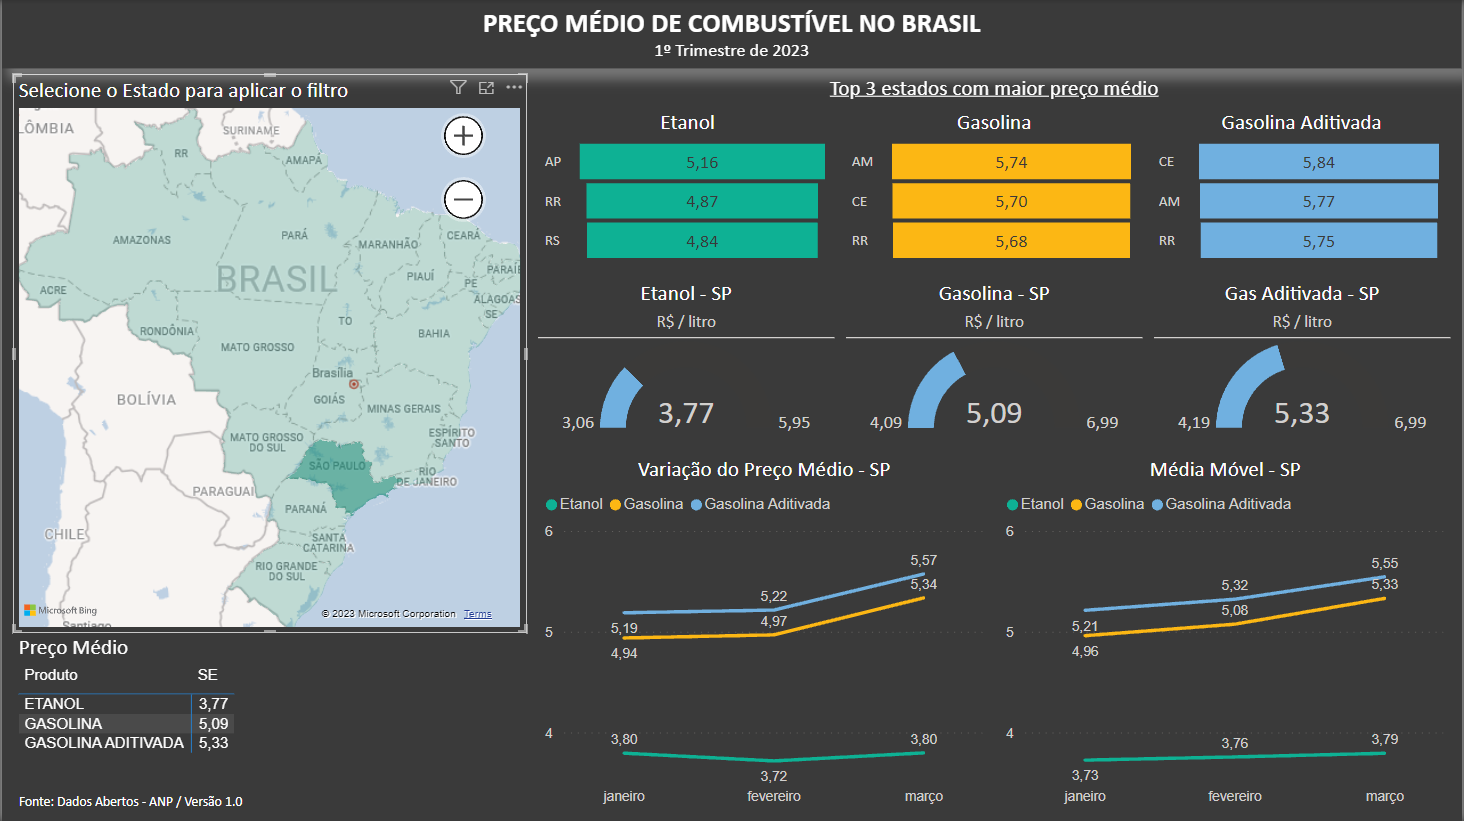

What the dashboard file says about the page in this screenshot:
{"tool":"powerbi","page":{"name":"Preço Médio","canvas":[1280,720],"ordinal":0},"visuals":[{"type":"lineChart","fields":{"Category":["preco_tratado.Data_Coleta.Variation.Hierarquia de datas.Mês","preco_tratado.Data_Coleta.Variation.Hierarquia de datas.Dia"],"Y":["Medidas.MediaNacEtanol","Medidas.MediaNacGasComum","Medidas.MediaNacGasAdit"]},"box":[470.9,395,395,320],"z":0},{"type":"lineChart","fields":{"Y":["Medidas.Média móvel de MediaNacEtanol","Medidas.Média móvel de MediaNacGasComum","Medidas.Média móvel de MediaNacGasAdit"],"Category":["preco_tratado.Data_Coleta.Variation.Hierarquia de datas.Mês","preco_tratado.Data_Coleta.Variation.Hierarquia de datas.Dia"]},"box":[874.9,395,395.1,320],"z":1000},{"type":"filledMap","title":"Selecione o Estado para aplicar o filtro","fields":{"Category":["preco_tratado.Estado"]},"box":[10,65,450,490],"z":2000},{"type":"pivotTable","fields":{"Rows":["preco_tratado.Produto"],"Columns":["preco_tratado.Regiao"],"Values":["Medidas.MediaValorVenda"]},"box":[10,554.7,450,123.7],"z":3000},{"type":"funnel","title":"Gasolina ","fields":{"Category":["TOPMediaGas.Estado"],"Y":["Avg(TOPMediaGas.GAS)"]},"box":[740.2,95,260,140.1],"z":4000},{"type":"textbox","box":[0,0,1280,60],"z":5000},{"type":"funnel","title":"Gasolina Aditivada","fields":{"Category":["TOPMediaGasAdit.Estado"],"Y":["Avg(TOPMediaGasAdit.GAS_ADIT)"]},"box":[1009.6,95,260.7,140.1],"z":6000},{"type":"funnel","title":"Etanol","fields":{"Category":["TOPMediaEtanol.Estado"],"Y":["Avg(TOPMediaEtanol.ETANOL)"]},"box":[470.8,95,260.7,140.1],"z":7000},{"type":"textbox","title":"Top 3 estados com maior preço médio","box":[470.2,65,800.1,30],"z":8000},{"type":"textbox","box":[10,690,225.5,25.9],"z":9000},{"type":"textbox","box":[470,245.1,260,52],"z":10000},{"type":"gauge","fields":{"Y":["Medidas.MediaNacEtanol"],"MinValue":["Medidas.MinMediaNacEtanol"],"MaxValue":["Medidas.MaxMediaNacEtanol"]},"box":[470,297.6,259.7,87.5],"z":11000},{"type":"textbox","box":[740,245,260,52],"z":12000},{"type":"gauge","fields":{"Y":["Medidas.MediaNacGasComum"],"MinValue":["Medidas.MinMediaNacGas"],"MaxValue":["Medidas.MaxMediaNacGas"]},"box":[740,297,259.7,87.5],"z":13000},{"type":"textbox","box":[1010.7,245,260,52],"z":14000},{"type":"gauge","fields":{"Y":["Medidas.MediaNacGasAdit"],"MinValue":["Medidas.MinMediaNacGasAdt"],"MaxValue":["Medidas.MaxMediaNacGasAdt"]},"box":[1010.7,297,259.7,87.5],"z":15000}]}

Visuals, with their boxes in screenshot pixels (x1, y1, x2, y2), scaled from the page's 1280x720 canvas onto the 1464x821 screenshot:
lineChart - preco_tratado.Data_Coleta.Variation.Hierarquia de datas.Mês x preco_tratado.Data_Coleta.Variation.Hierarquia de datas.Dia: l=539, t=450, r=990, b=815
lineChart - Medidas.Média móvel de MediaNacEtanol x Medidas.Média móvel de MediaNacGasComum: l=1001, t=450, r=1453, b=815
"Selecione o Estado para aplicar o filtro" filledMap: l=11, t=74, r=526, b=633
pivotTable - preco_tratado.Produto x preco_tratado.Regiao: l=11, t=633, r=526, b=774
"Gasolina " funnel: l=847, t=108, r=1144, b=268
textbox: l=0, t=0, r=1463, b=68
"Gasolina Aditivada" funnel: l=1155, t=108, r=1453, b=268
"Etanol" funnel: l=538, t=108, r=837, b=268
"Top 3 estados com maior preço médio" textbox: l=538, t=74, r=1453, b=108
textbox: l=11, t=787, r=269, b=816
textbox: l=538, t=279, r=835, b=339
gauge - Medidas.MediaNacEtanol x Medidas.MinMediaNacEtanol: l=538, t=339, r=835, b=439
textbox: l=846, t=279, r=1144, b=339
gauge - Medidas.MediaNacGasComum x Medidas.MinMediaNacGas: l=846, t=339, r=1143, b=438
textbox: l=1156, t=279, r=1453, b=339
gauge - Medidas.MediaNacGasAdit x Medidas.MinMediaNacGasAdt: l=1156, t=339, r=1453, b=438
